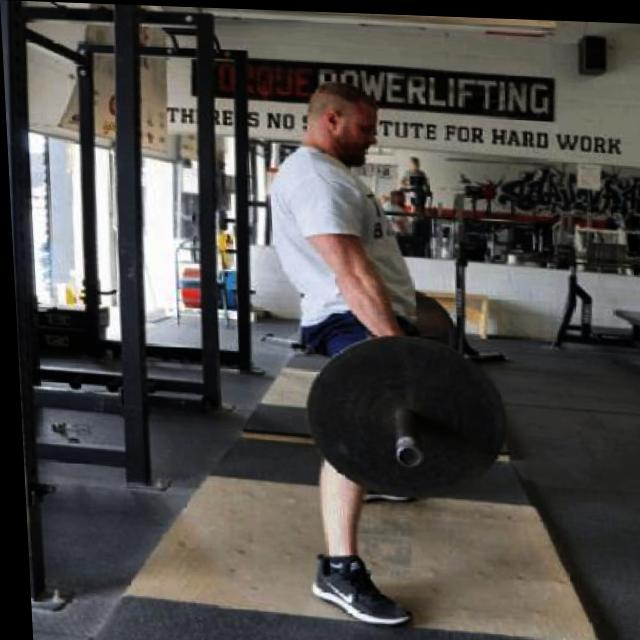barbell: (295, 327, 511, 509)
